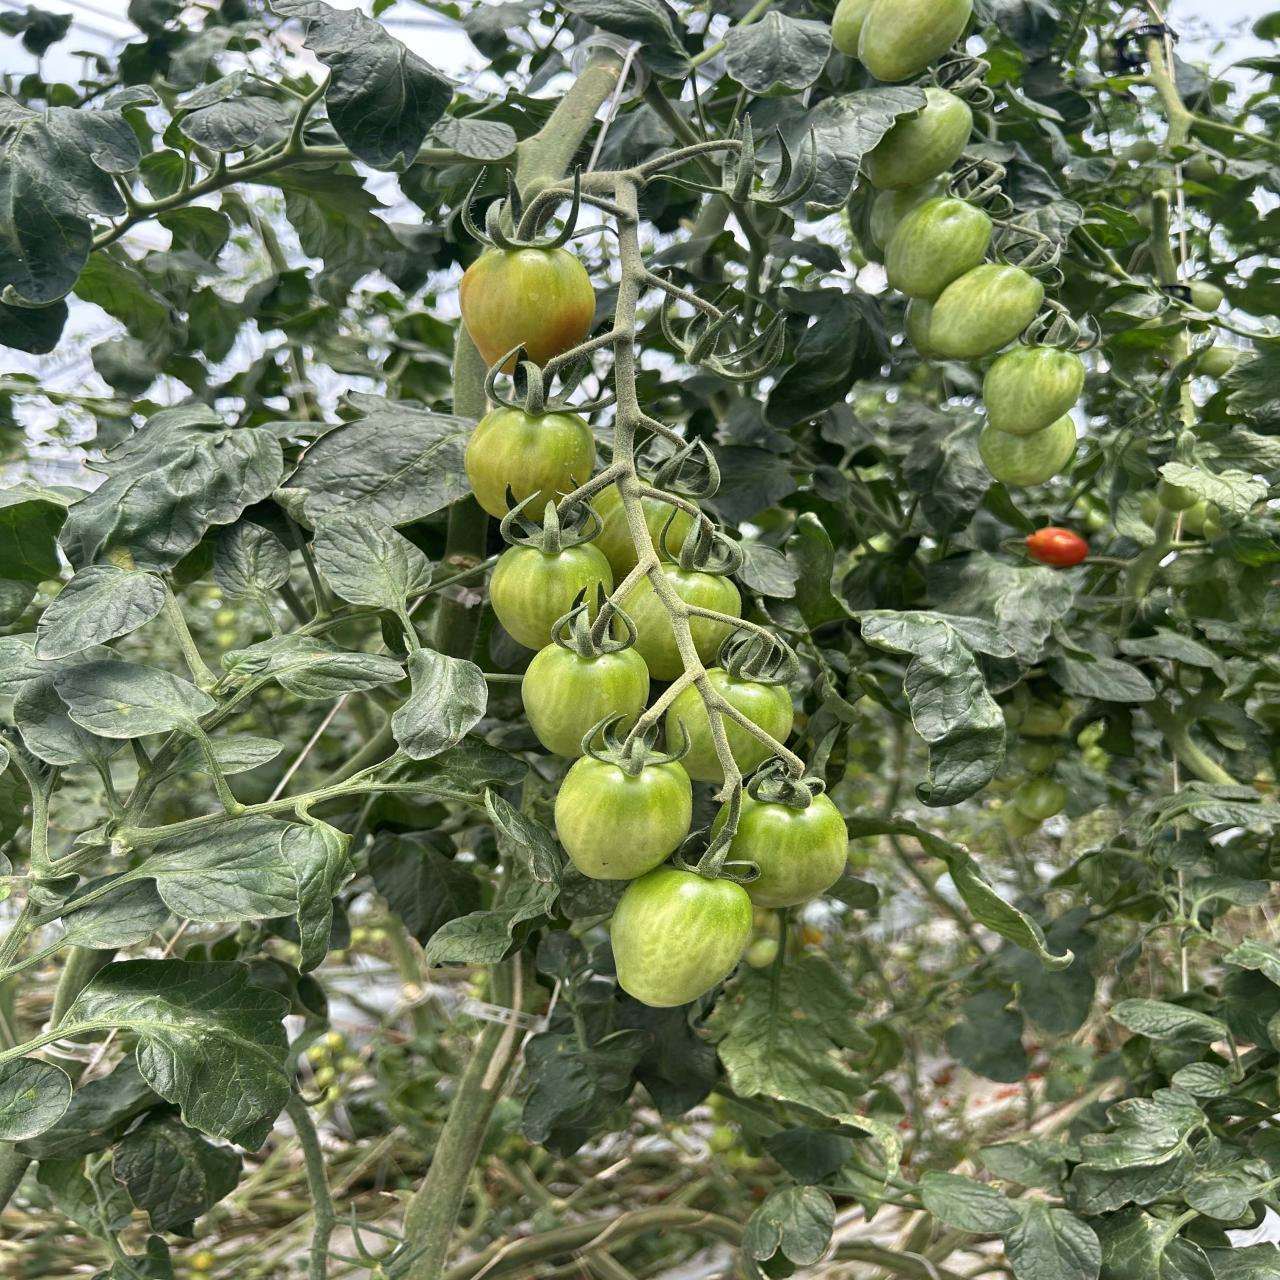Hoja rugoso: (60, 959, 291, 1149), (64, 817, 349, 961), (61, 404, 284, 571), (0, 86, 158, 308), (273, 0, 454, 169), (860, 611, 1013, 805), (702, 956, 876, 1117), (890, 821, 1067, 969), (425, 788, 567, 966), (285, 406, 477, 527), (749, 87, 925, 206), (522, 1008, 651, 1156), (767, 288, 891, 428), (926, 551, 1083, 661), (280, 168, 403, 304), (113, 1110, 243, 1231), (369, 830, 488, 946), (53, 659, 216, 741), (38, 565, 166, 660), (618, 999, 721, 1117), (313, 512, 430, 614), (222, 634, 406, 699), (392, 648, 488, 761), (560, 0, 690, 77), (1081, 1095, 1206, 1171), (15, 680, 125, 764), (724, 9, 832, 94), (1092, 1206, 1213, 1280), (741, 1185, 835, 1280), (215, 519, 291, 635), (1138, 782, 1280, 844), (1003, 1199, 1101, 1280), (1071, 1151, 1196, 1213), (179, 96, 293, 151), (919, 1172, 1020, 1233), (0, 1057, 73, 1142), (1160, 462, 1268, 516), (976, 1139, 1078, 1193), (1112, 1000, 1227, 1043), (1051, 655, 1155, 702), (1008, 199, 1083, 264), (830, 1114, 903, 1177), (1183, 1167, 1259, 1227), (559, 860, 628, 921), (428, 115, 517, 162), (202, 734, 284, 775), (155, 734, 209, 779), (537, 931, 586, 980), (1000, 232, 1022, 248)
Pedunculo: (515, 47, 621, 205), (452, 319, 488, 418)
Pedunculo rugoso: (580, 171, 801, 878)
Tomate Rugoso: (610, 865, 753, 1007), (554, 756, 692, 879), (459, 248, 594, 366), (522, 642, 649, 758), (465, 407, 595, 520), (728, 794, 849, 907), (489, 542, 613, 651), (914, 263, 1044, 359), (863, 87, 972, 190), (885, 197, 993, 300), (858, 0, 973, 81), (982, 346, 1085, 435), (979, 414, 1076, 486), (707, 666, 794, 741), (665, 687, 724, 784), (631, 583, 682, 681), (661, 558, 740, 615), (592, 484, 636, 577), (721, 715, 772, 774), (831, 0, 874, 57), (689, 617, 731, 663), (642, 498, 674, 542), (646, 510, 660, 553), (672, 512, 688, 549)
